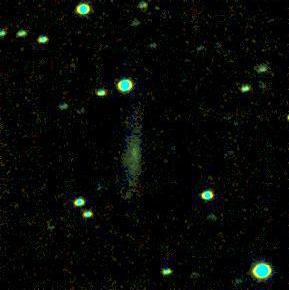star: (231, 72, 261, 102)
